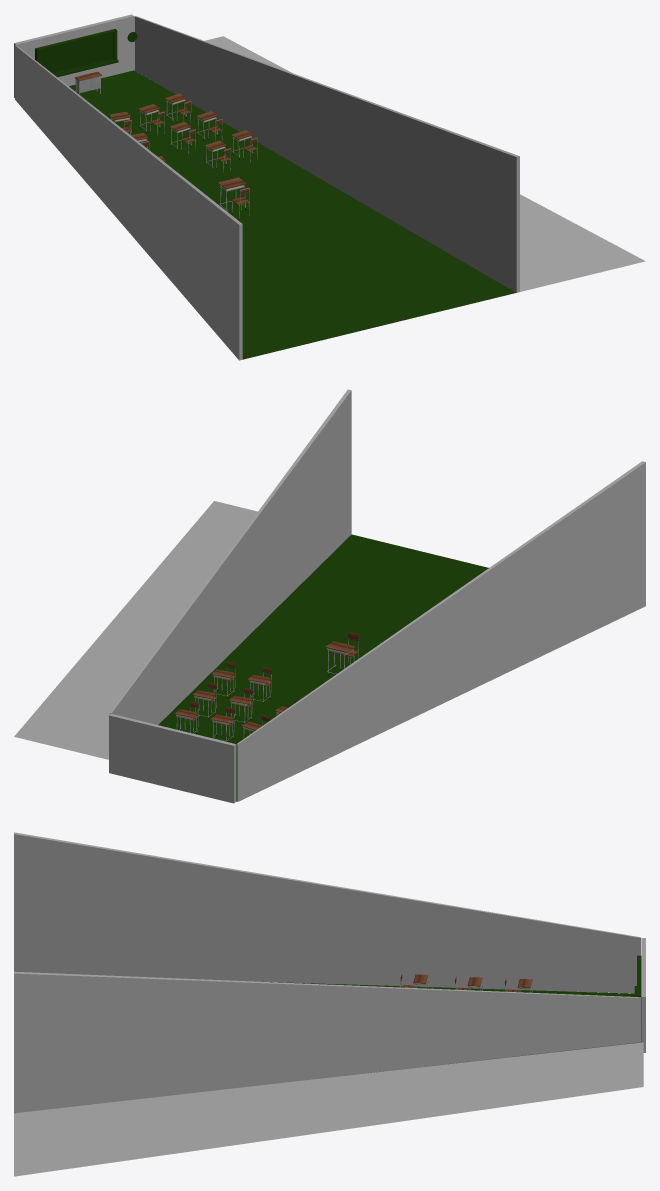
The model's file is classroom_4.fbx.
3 renders of one model, top to bottom at view 1: azimuth 30°, elevation 25°; view 2: azimuth 150°, elevation 25°; view 3: azimuth 270°, elevation 25°, orthographic. The views are drawn at different scales.
Parts seen in each view (by area): view 1: floor_, wall1, wall, rouka, blackbord, wall2; view 2: wall, wall1, floor_, rouka, wall2; view 3: wall, wall1, rouka, floor_, wall2.
Part boxes in pixels (x1=…): floor_: x1=69, y1=70, x2=515, y2=359; wall1: x1=134, y1=16, x2=519, y2=292; wall: x1=15, y1=45, x2=242, y2=360; rouka: x1=204, y1=36, x2=645, y2=291; blackbord: x1=35, y1=29, x2=118, y2=77; wall2: x1=14, y1=14, x2=133, y2=97; wall: x1=236, y1=461, x2=645, y2=801; wall1: x1=110, y1=389, x2=351, y2=724; floor_: x1=158, y1=534, x2=488, y2=801; rouka: x1=14, y1=501, x2=257, y2=759; wall2: x1=109, y1=713, x2=236, y2=803; wall: x1=14, y1=832, x2=640, y2=993; wall1: x1=14, y1=971, x2=640, y2=1113; rouka: x1=14, y1=1042, x2=643, y2=1176; floor_: x1=262, y1=981, x2=641, y2=1042; wall2: x1=641, y1=938, x2=645, y2=1052.
Bounding box in the file's own units: 1149 × 366 × 1501.
